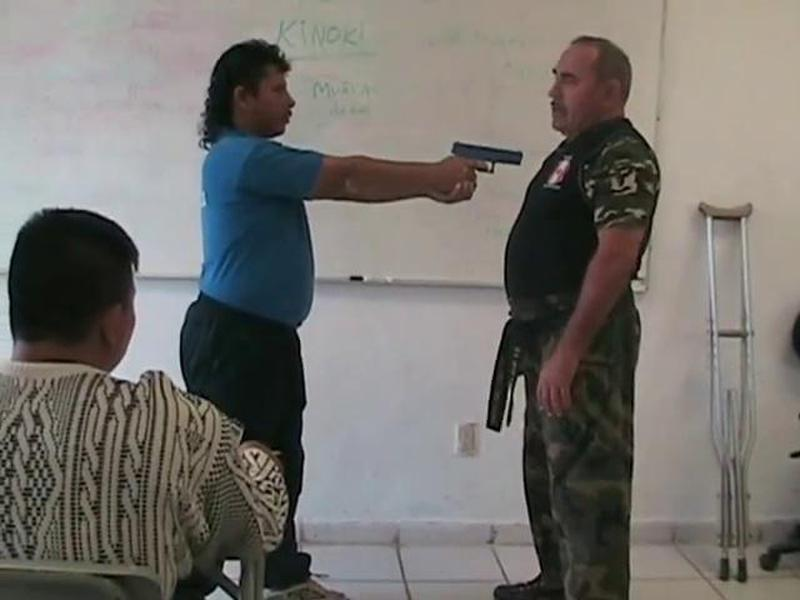Pistola: (445, 134, 522, 186)
